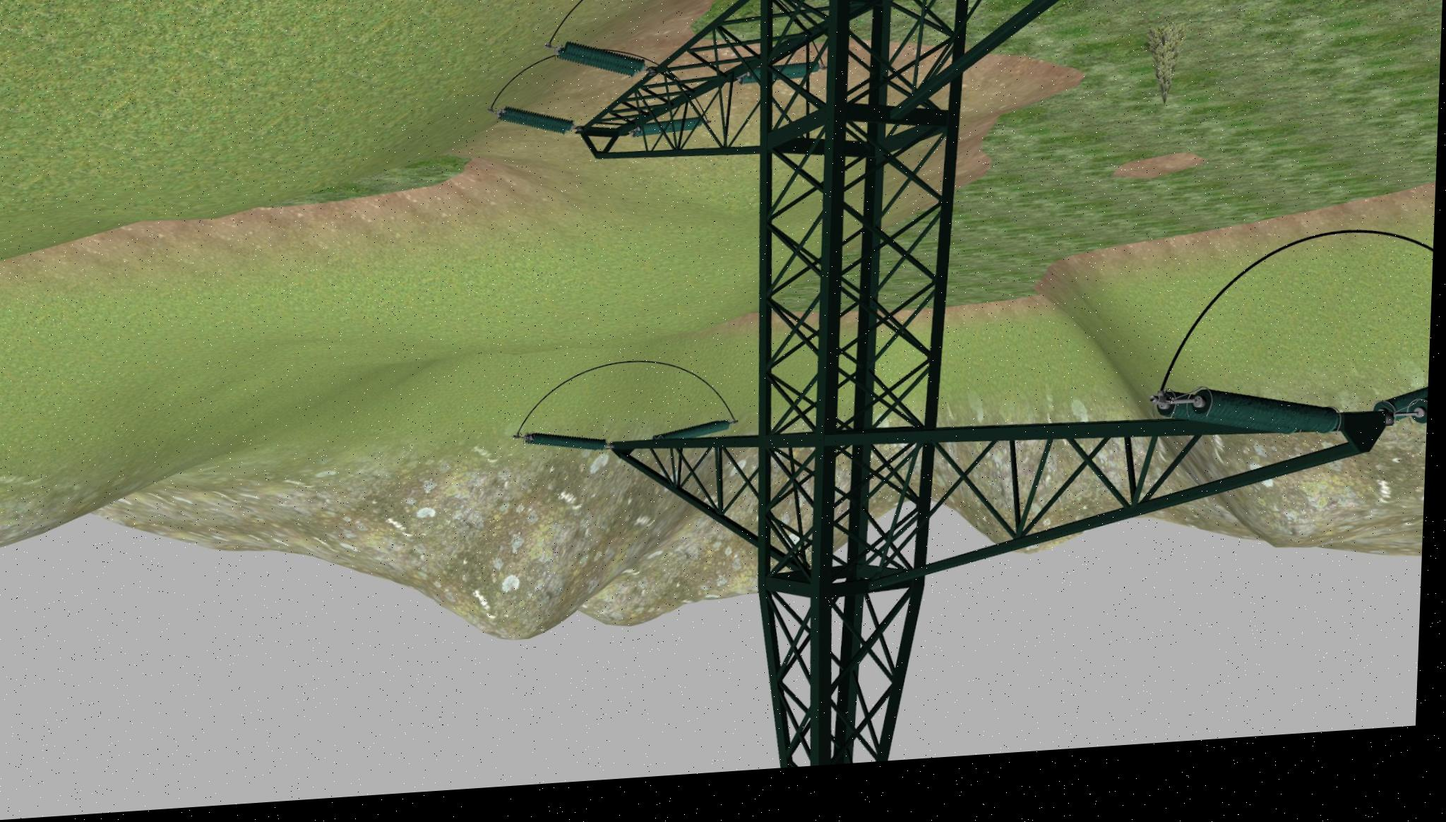tower: (557, 0, 1389, 783)
